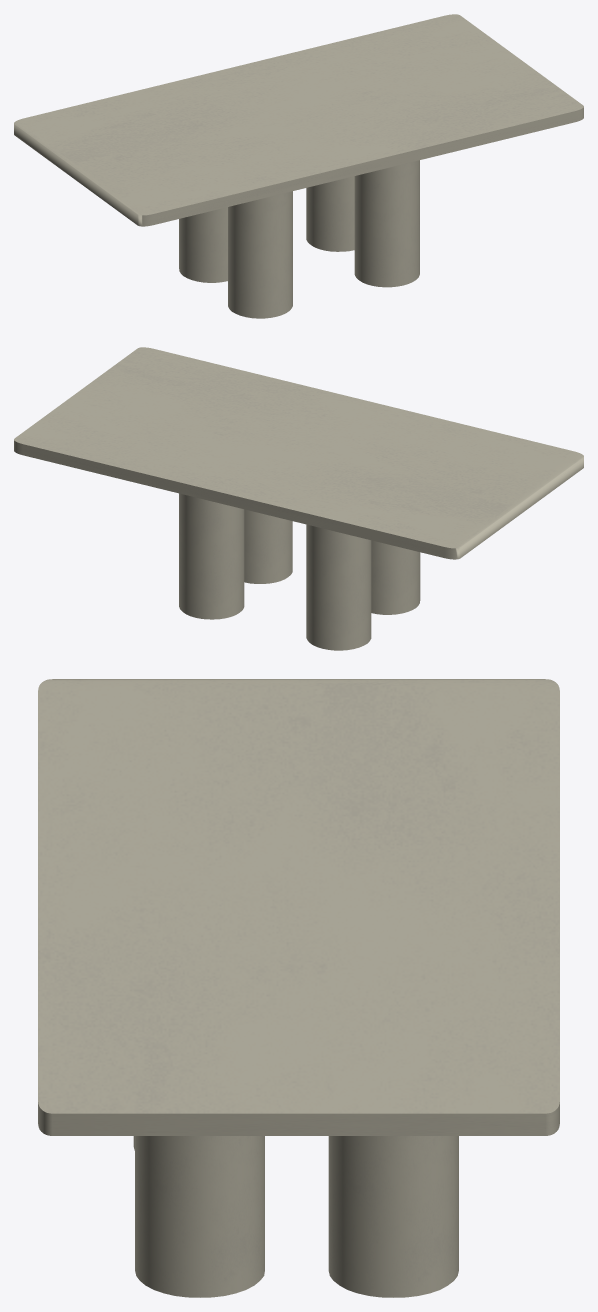
The model's file is silk_softrecta_standard_grove.glb.
3 views of the same model, one above another, from view 1: azimuth 30°, elevation 25°; view 2: azimuth 150°, elevation 25°; view 3: azimuth 270°, elevation 25° (orthographic). The views are drawn at different scales.
Visible parts, largest first — view 1: silk_softrectastandard_grove; view 2: silk_softrectastandard_grove; view 3: silk_softrectastandard_grove.
Part boxes in pixels (x1,y1,x2,y2): silk_softrectastandard_grove: (14, 14, 583, 318); silk_softrectastandard_grove: (14, 347, 583, 650); silk_softrectastandard_grove: (38, 679, 559, 1297).
Size of the model in its own units: 7.5 by 2.51 by 3.8.
Materials: 1 (1 with a texture image).
